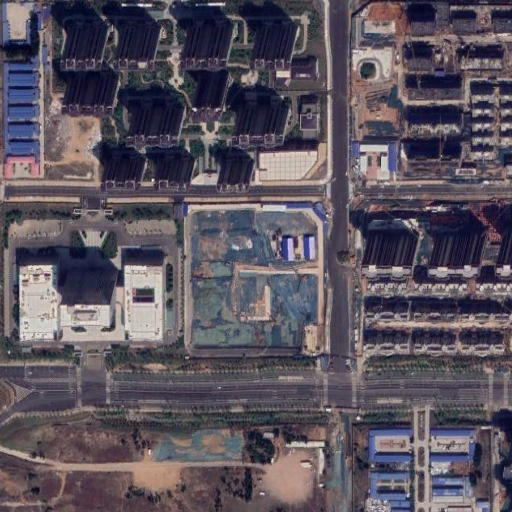cw: (191, 210, 323, 350), (148, 424, 244, 464)
